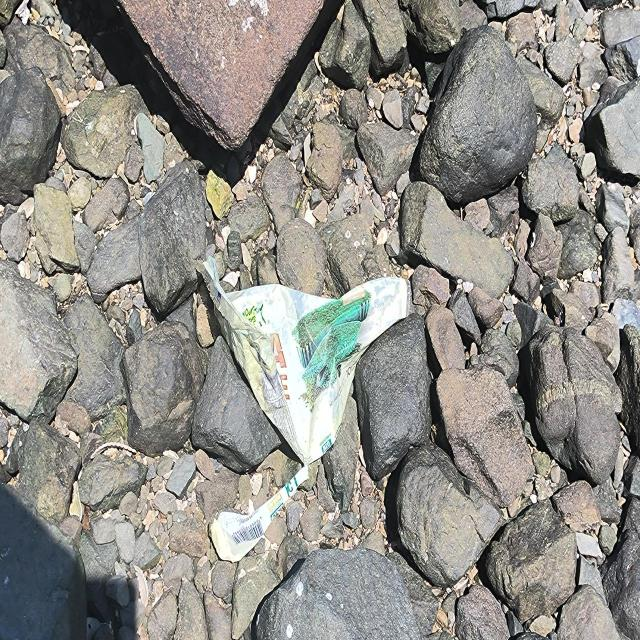plastic_waste: (213, 273, 416, 465)
